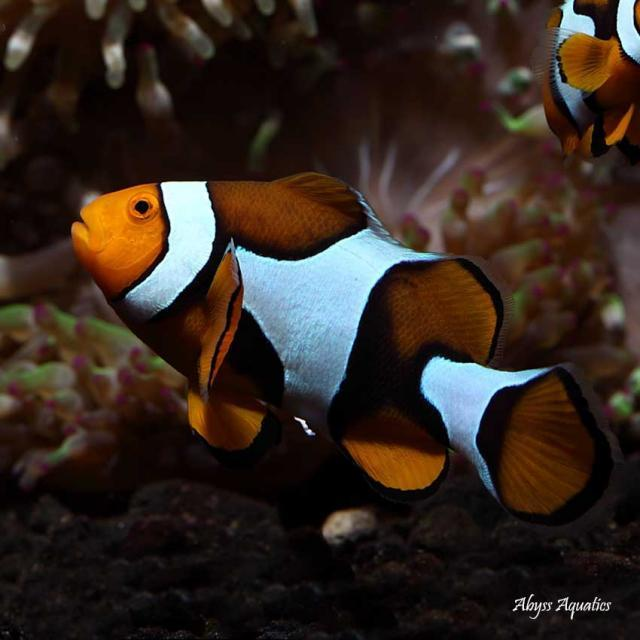ClownFish: (69, 173, 614, 524), (544, 0, 640, 162)
